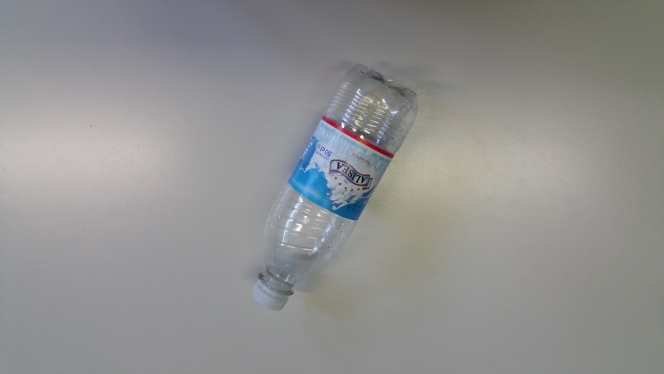bottle: (246, 58, 422, 315)
